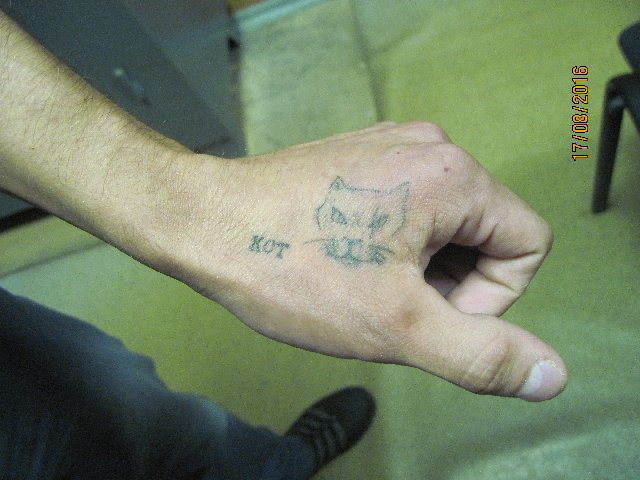tatu3_bukva: (243, 232, 295, 264)
tatu8_kot: (312, 171, 414, 272)
